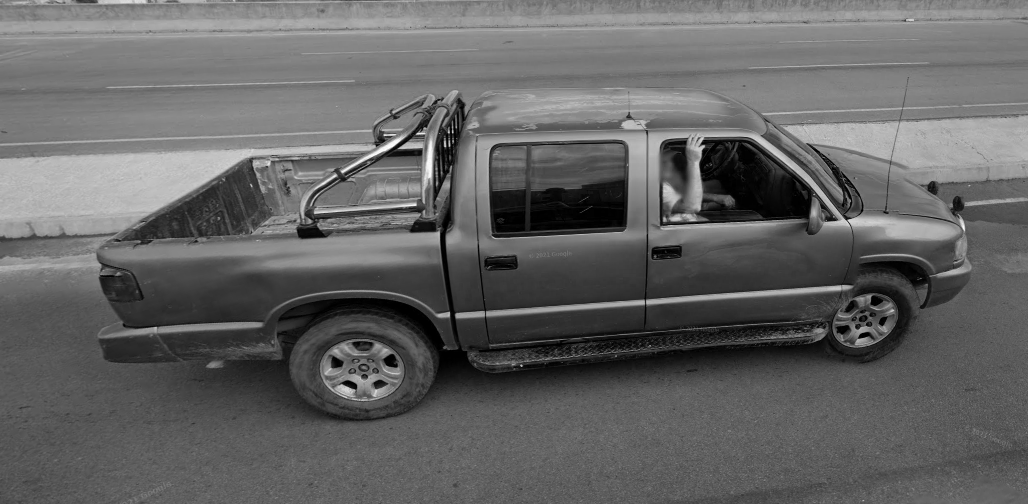car: (85, 69, 978, 426)
